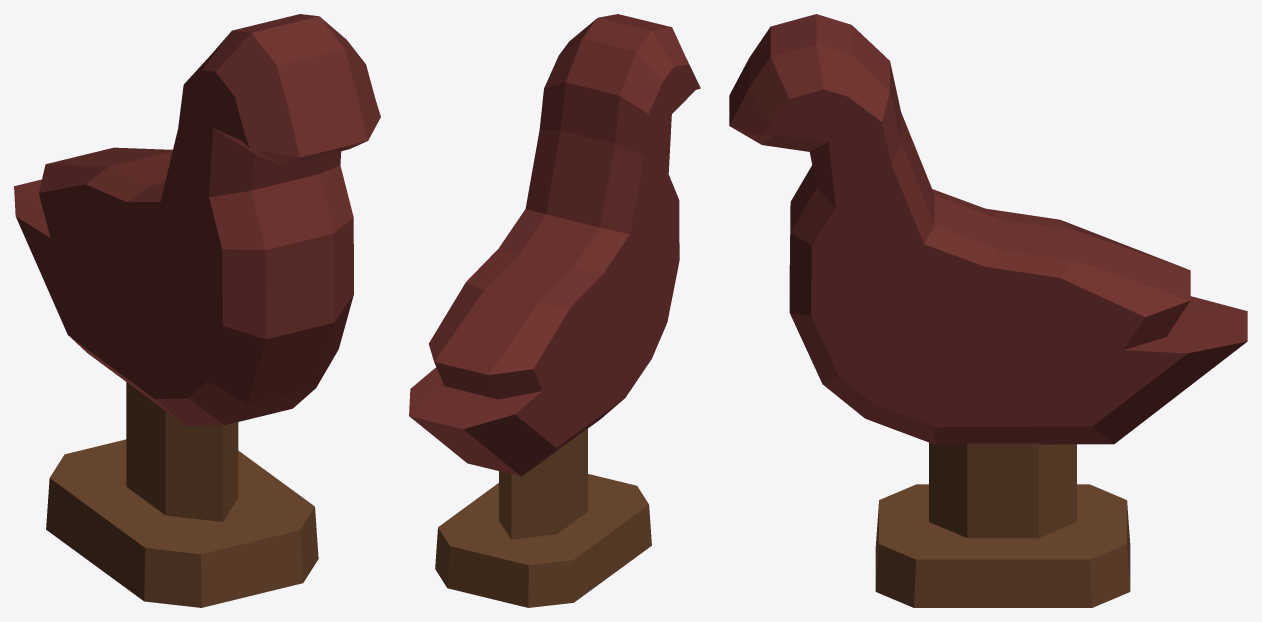
Rendered from goosestatue.fbx.
3 renders of one model, left to right at view 1: azimuth 30°, elevation 25°; view 2: azimuth 150°, elevation 25°; view 3: azimuth 270°, elevation 25°, orthographic. The views are drawn at different scales.
Visible parts, largest first — view 1: Cube.001; view 2: Cube.001; view 3: Cube.001.
Boxes of the visible parts, box(x1,y1,x2,y2) form: Cube.001: box(14, 14, 380, 607); Cube.001: box(409, 14, 700, 607); Cube.001: box(729, 14, 1247, 607).
Bounding box in the file's own units: 46.81 × 153 × 133.
